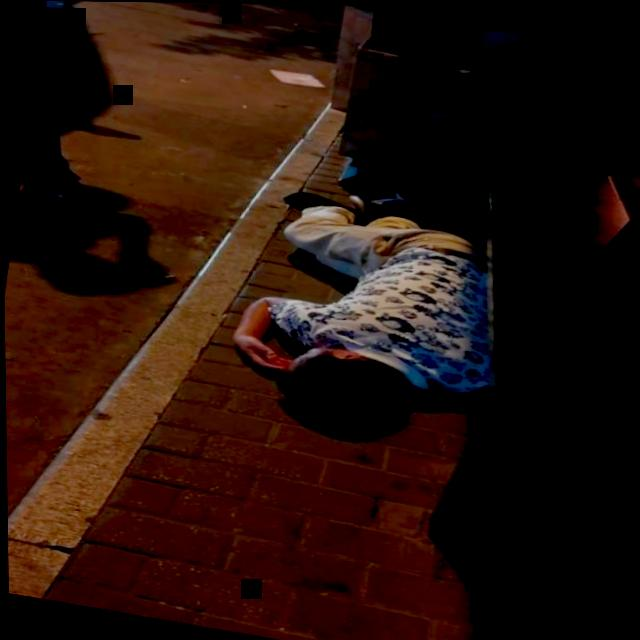Fall-Detected: (198, 157, 533, 476)
